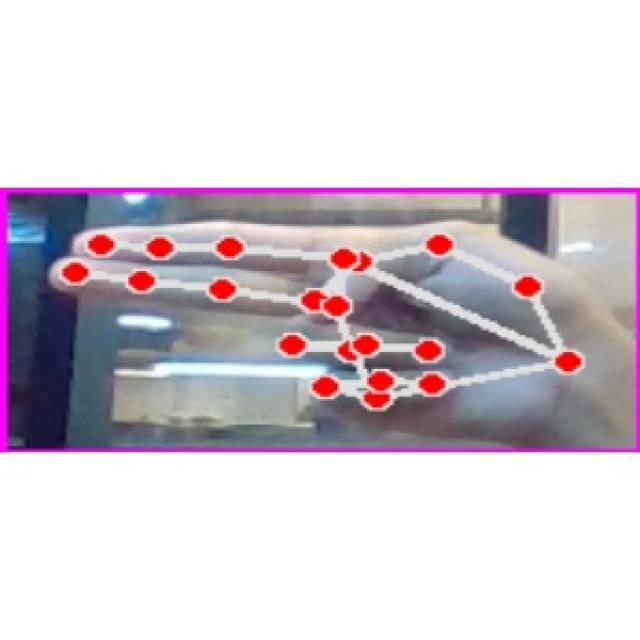H: (42, 213, 606, 437)
